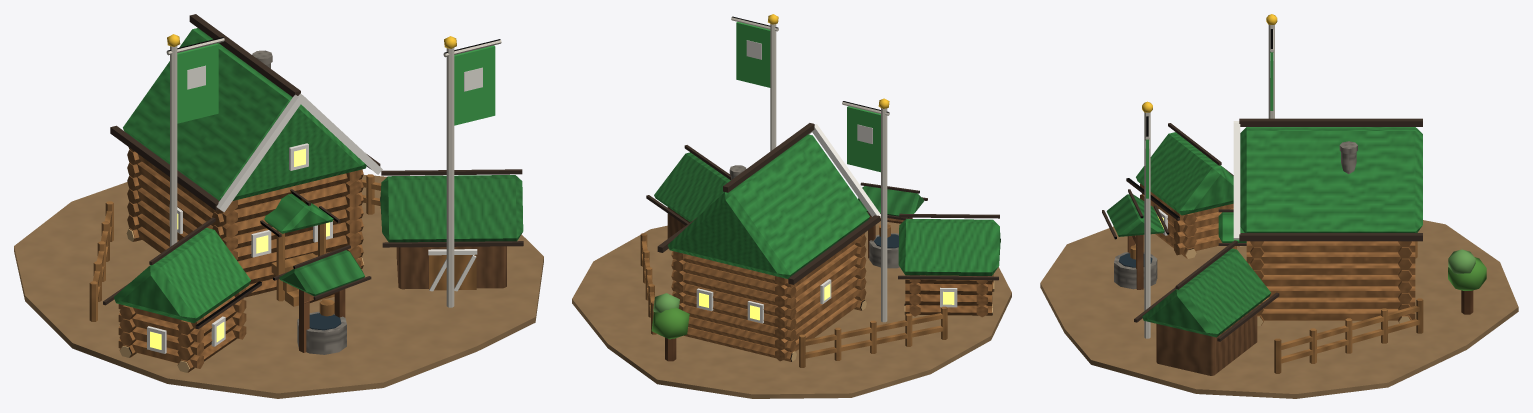
The model's file is residence_dl2_green.glb.
3 renders of one model, left to right at view 1: azimuth 30°, elevation 25°; view 2: azimuth 150°, elevation 25°; view 3: azimuth 270°, elevation 25°, orthographic. The views are drawn at different scales.
Parts seen in each view (by area): view 1: residence_dl2_green; view 2: residence_dl2_green; view 3: residence_dl2_green.
Boxes of the visible parts, left/top/right/bottom form: residence_dl2_green: left=14, top=14, right=543, bottom=398; residence_dl2_green: left=572, top=14, right=1011, bottom=398; residence_dl2_green: left=1040, top=14, right=1518, bottom=398.
Bounding box in the file's own units: 1.55 × 0.897 × 1.61.
Materials: 2 (1 with a texture image).
